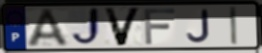A: (25, 7, 72, 48)
F: (142, 7, 178, 46)
I: (228, 6, 240, 47)
J: (69, 6, 102, 48), (185, 8, 212, 44)
V: (102, 6, 144, 48)
